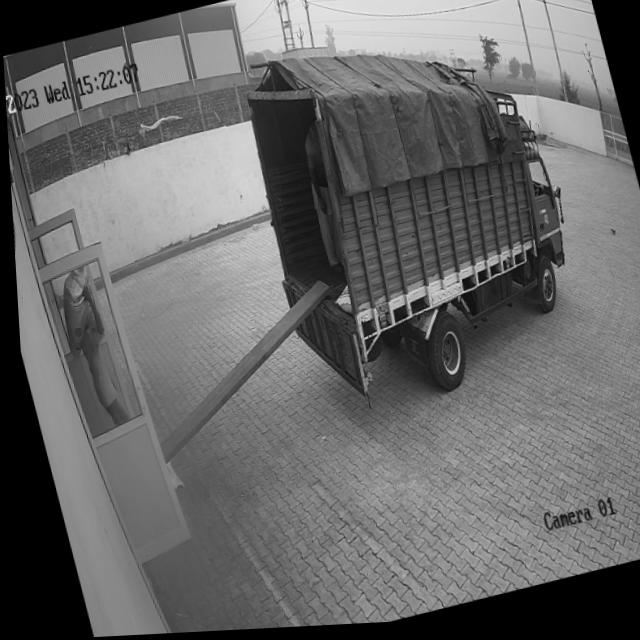sack: (47, 264, 106, 361)
